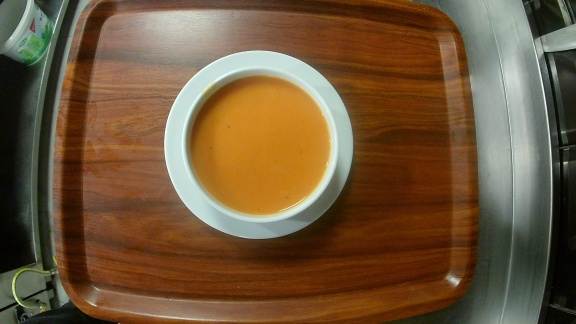domatescorba: (162, 48, 354, 241)
